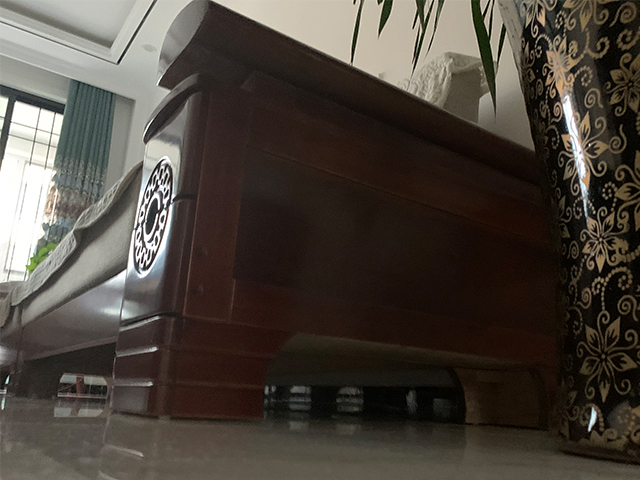sofa: (1, 1, 558, 430)
